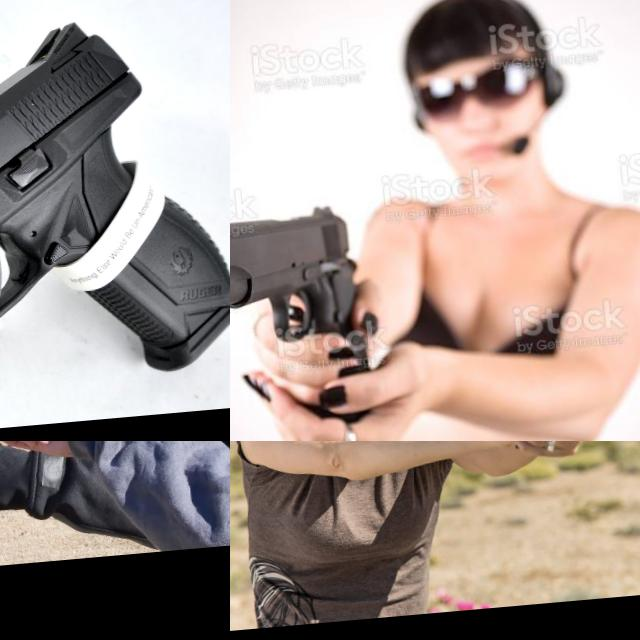handgun: (0, 4, 230, 415), (230, 196, 368, 355), (502, 441, 601, 485), (0, 441, 56, 471)
